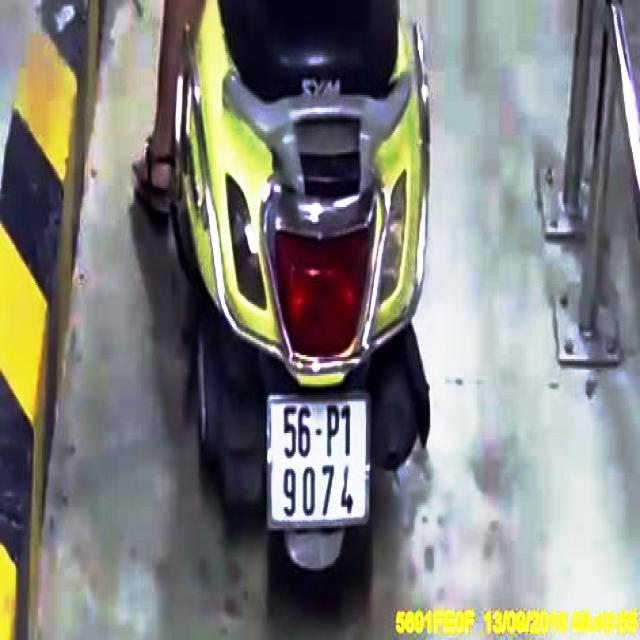license_plate: (269, 399, 370, 528)
